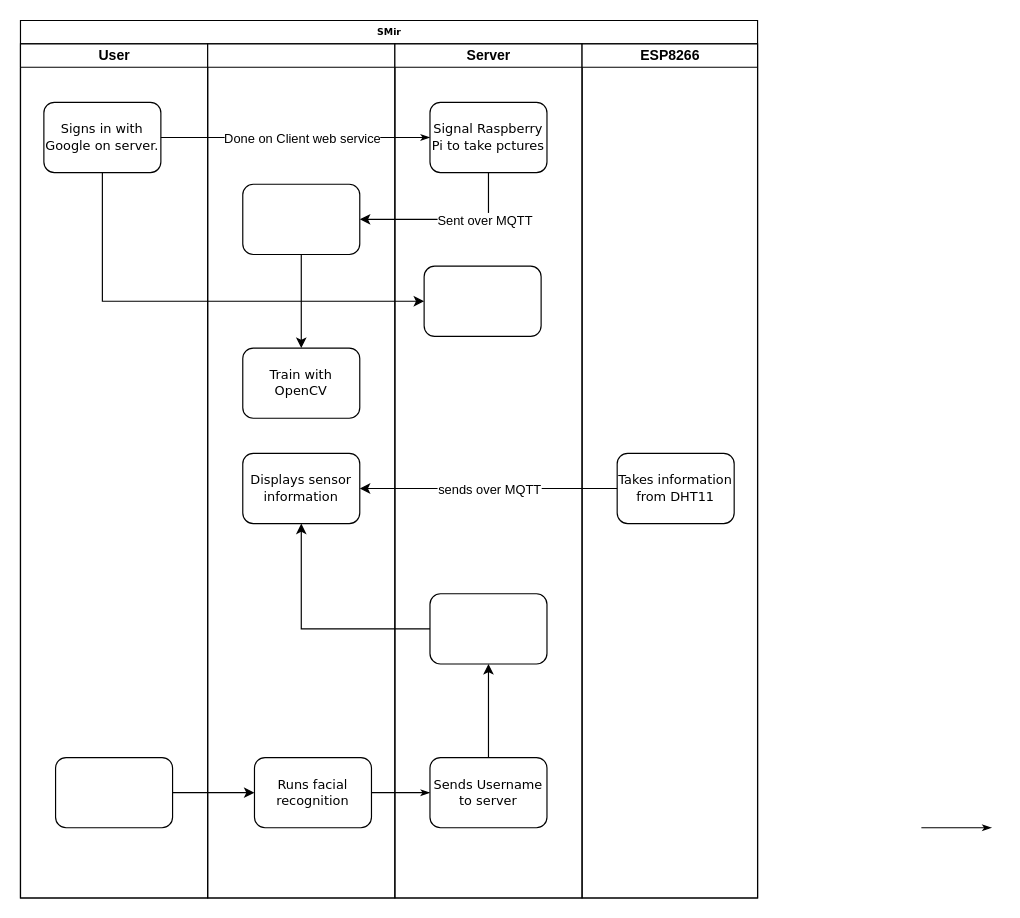
Some shapes in this 1020 by 918 pixel diagram are drawn without their labels. Each missing label, with the box of its shape:
Create user with session key: (423, 265, 541, 336)
Raspberry Pi: (207, 43, 395, 898)
Server sends live information: (429, 593, 547, 664)
Takes picture: (242, 183, 360, 254)
User appears in front of mirror: (54, 756, 173, 828)
